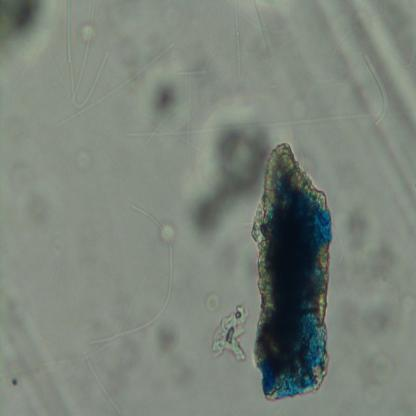Background material: (186, 102, 276, 250), (350, 2, 416, 135), (338, 294, 396, 406), (341, 204, 395, 290), (0, 298, 45, 390), (142, 58, 184, 132), (0, 0, 53, 58), (208, 296, 248, 366), (12, 160, 50, 226), (111, 27, 168, 70), (152, 322, 179, 362), (275, 95, 306, 124), (72, 146, 92, 172)
Fragment: (249, 138, 332, 406)
Glass filter fibre: (87, 204, 176, 347), (57, 42, 177, 126), (126, 106, 416, 140), (61, 2, 111, 104), (83, 350, 122, 416), (361, 51, 388, 127), (254, 3, 274, 62), (232, 0, 243, 77), (178, 65, 207, 78)
